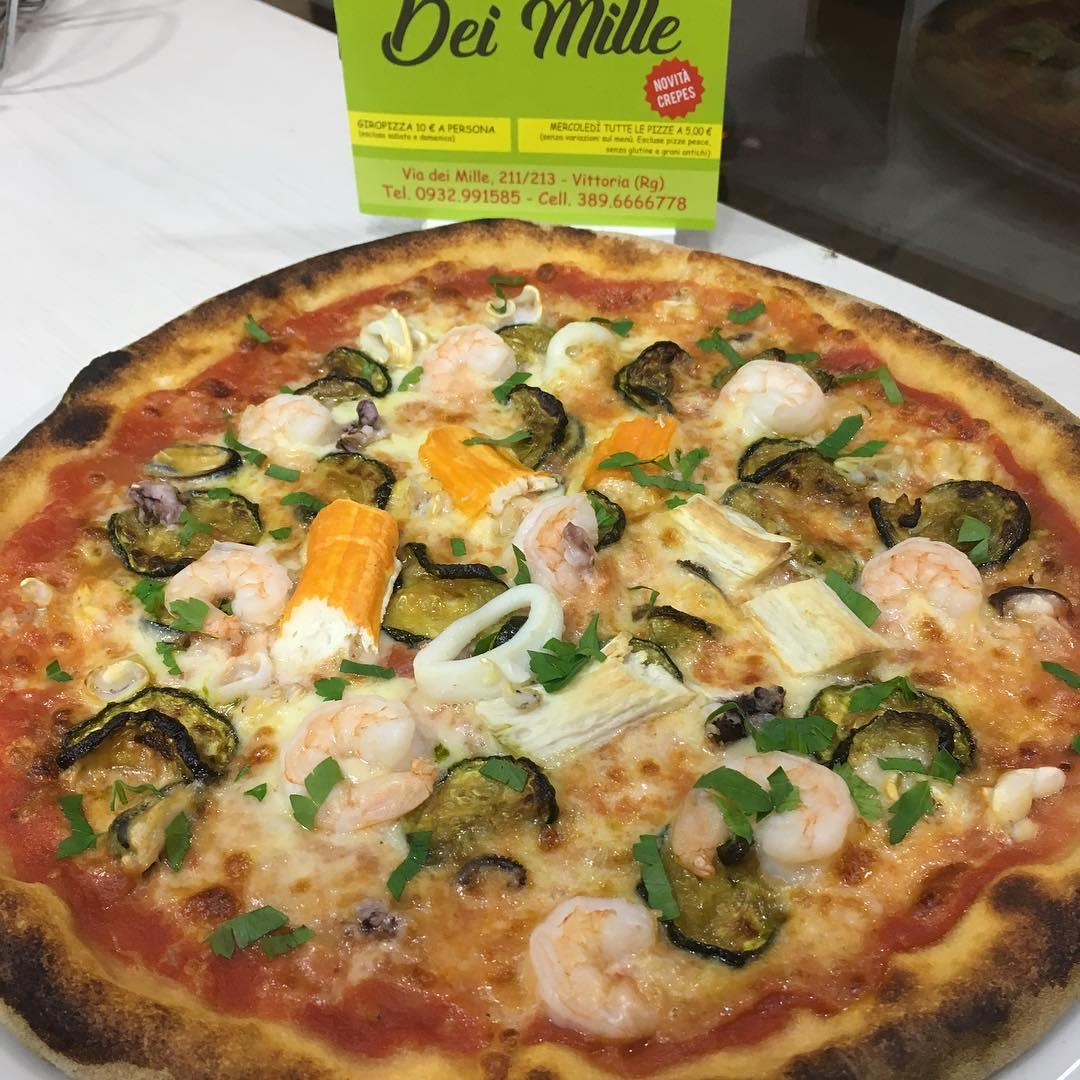Pizza: (0, 222, 1080, 1080)
